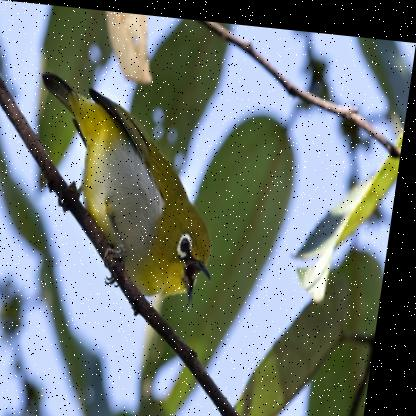Burung: (20, 69, 238, 308)
